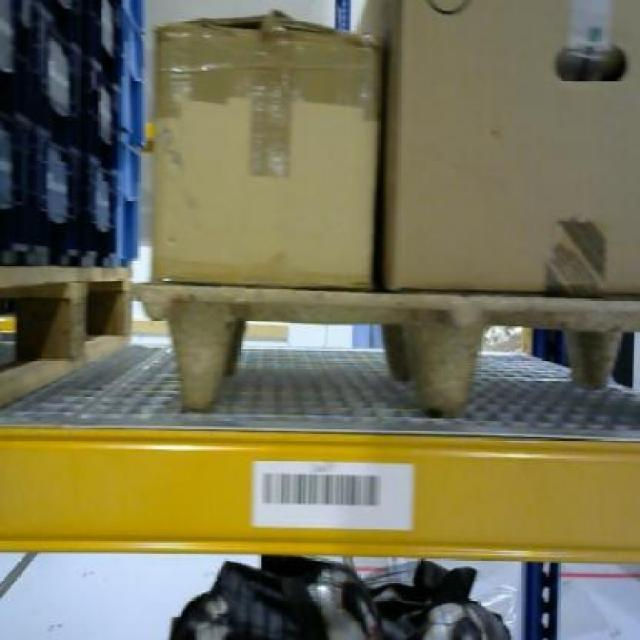box: (386, 1, 639, 294), (152, 13, 378, 293)
